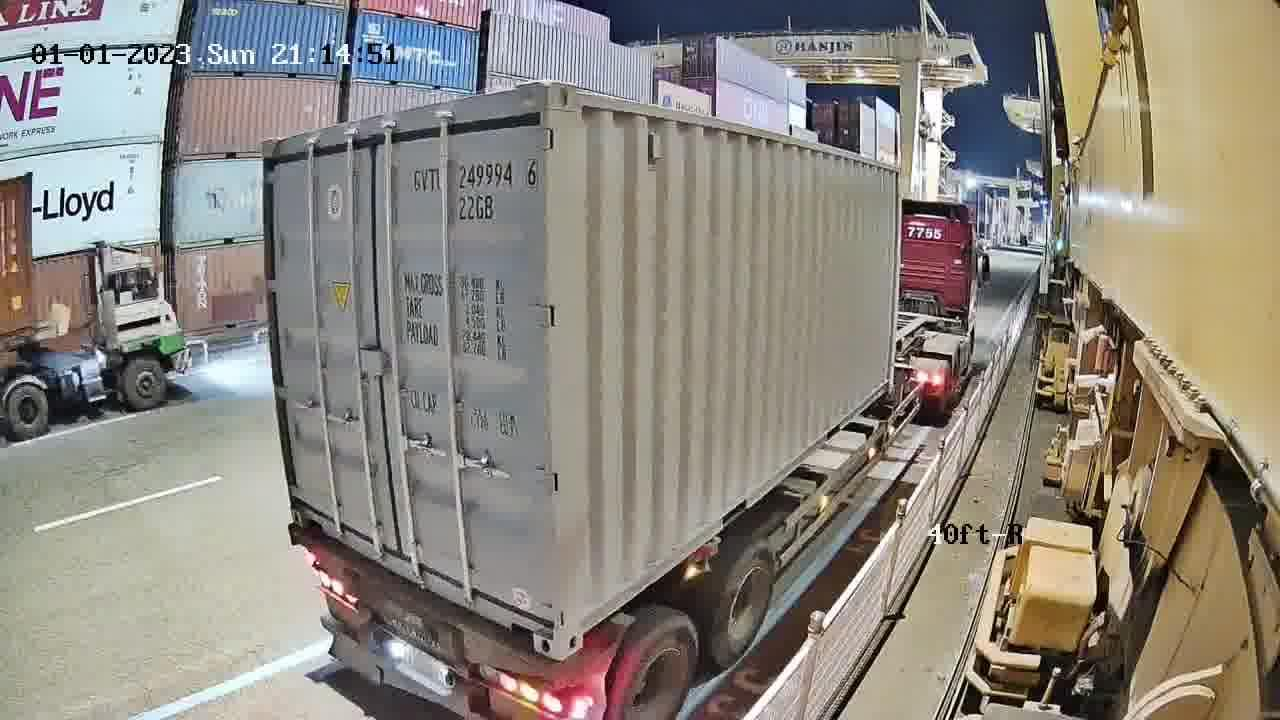Chassis: (290, 531, 559, 666)
Hole_L: (562, 573, 608, 658), (287, 484, 326, 534)
Hole_R: (511, 588, 562, 661)
Tire: (611, 615, 702, 717), (713, 545, 777, 667)
